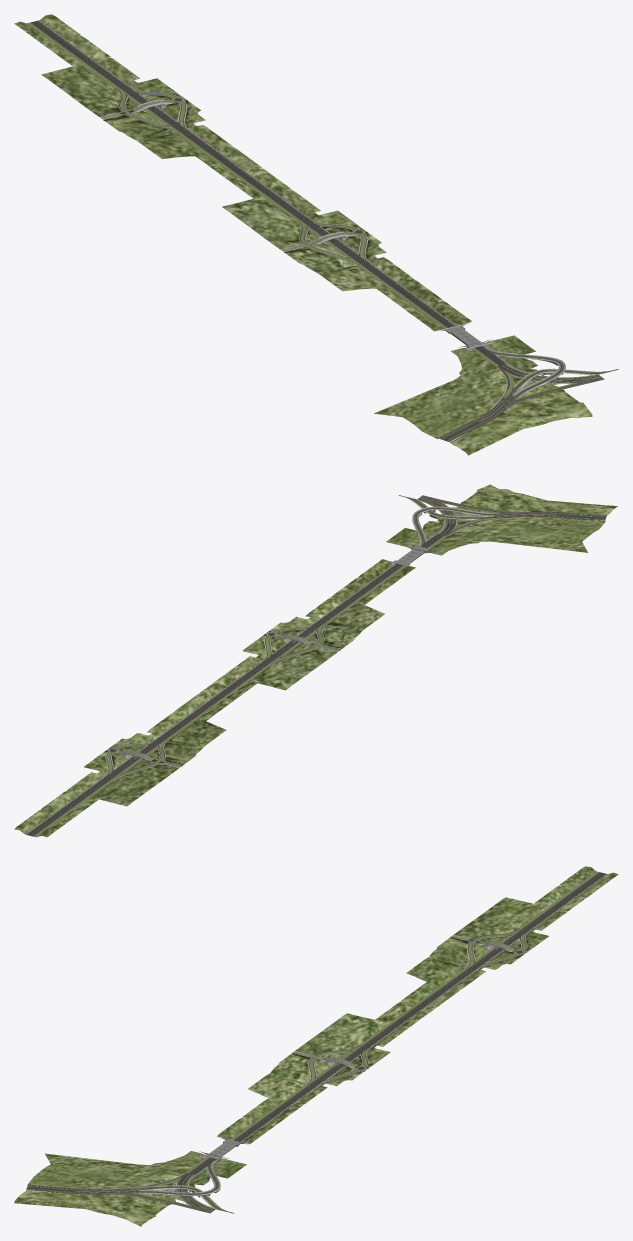
File: aplinkelis.fbx
3 renders of one model, top to bottom at view 1: azimuth 30°, elevation 25°; view 2: azimuth 150°, elevation 25°; view 3: azimuth 330°, elevation 25°, orthographic. The views are drawn at different scales.
Parts seen in each view (by area): view 1: vgsSairportland13.001, VegasSroad017.002, sub_roadright_l0.002; view 2: vgsSairportland13.001, VegasSroad017.002, sub_roadright_l0.002; view 3: vgsSairportland13.001, VegasSroad017.002, sub_roadright_l0.002.
Boxes of the visible parts, <box> form: vgsSairportland13.001: <box>14,14,592,455</box>; VegasSroad017.002: <box>27,20,618,441</box>; sub_roadright_l0.002: <box>27,20,516,382</box>; vgsSairportland13.001: <box>14,484,617,837</box>; VegasSroad017.002: <box>25,495,606,837</box>; sub_roadright_l0.002: <box>28,520,475,835</box>; vgsSairportland13.001: <box>14,866,618,1226</box>; VegasSroad017.002: <box>26,871,607,1213</box>; sub_roadright_l0.002: <box>154,873,606,1185</box>.
Bounding box in the file's own units: 72161 × 2633 × 299645.
Materials: 11 (11 with a texture image).
